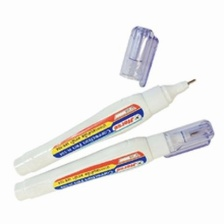correction_fluid: (11, 77, 198, 178), (13, 116, 217, 201)
